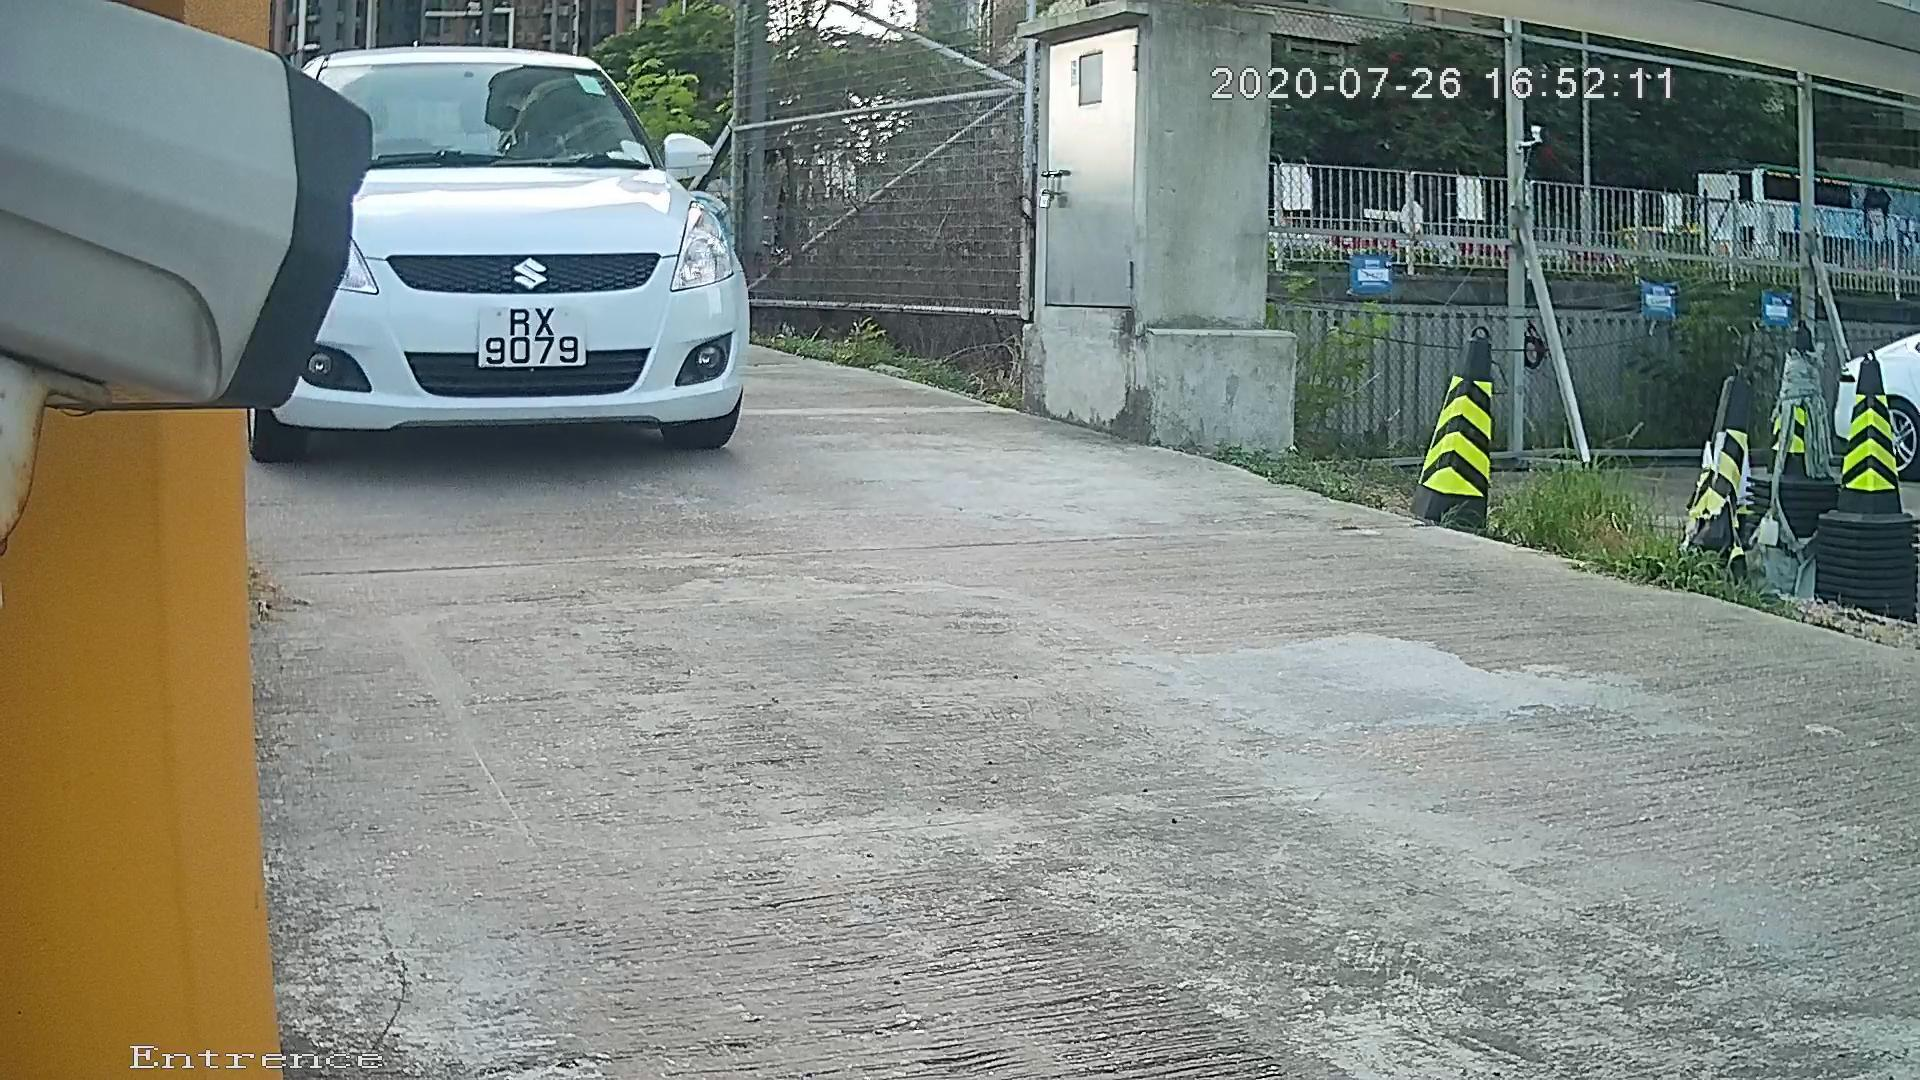privatecar: (171, 1, 806, 483)
